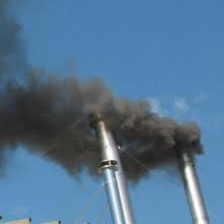smoke: (3, 77, 204, 169)
